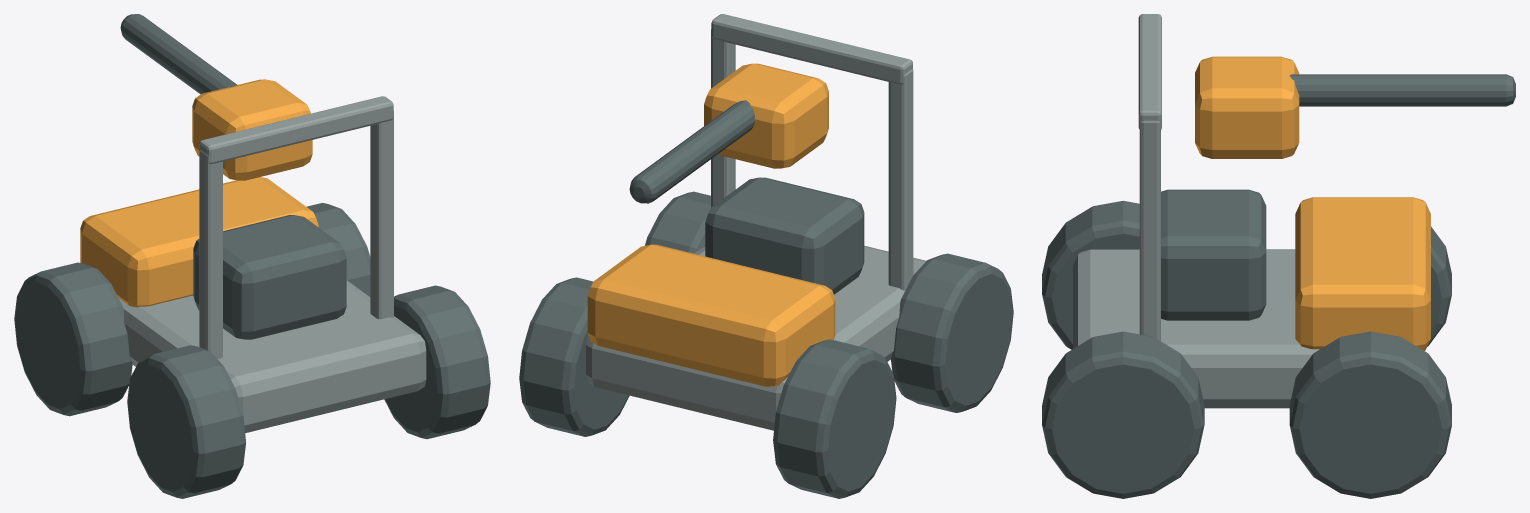
Rendered from buggy.glb.
3 renders of one model, left to right at view 1: azimuth 30°, elevation 25°; view 2: azimuth 150°, elevation 25°; view 3: azimuth 270°, elevation 25°, orthographic. The views are drawn at different scales.
Parts seen in each view (by area): view 1: Buggy chassis, Buggy tire, Buggy tire.001, Buggy hood, Seat, Buggy tire.002, Machine gun mount, Cage bar, Roll cage.001, Roll cage, Machine gun, Buggy tire.003; view 2: Buggy hood, Buggy tire.001, Buggy tire, Buggy chassis, Seat, Buggy tire.003, Machine gun mount, Cage bar, Roll cage, Machine gun, Buggy tire.002, Roll cage.001; view 3: Buggy tire.002, Buggy tire.003, Buggy hood, Buggy chassis, Seat, Machine gun mount, Machine gun, Buggy tire, Roll cage.001, Cage bar, Buggy tire.001.
Boxes of the visible parts, bbox=[...] form: Buggy chassis: bbox=[119, 280, 426, 432]; Buggy tire: bbox=[127, 345, 245, 498]; Buggy tire.001: bbox=[14, 262, 132, 416]; Buggy hood: bbox=[80, 177, 318, 307]; Seat: bbox=[193, 215, 346, 339]; Buggy tire.002: bbox=[384, 285, 490, 439]; Machine gun mount: bbox=[192, 79, 312, 180]; Cage bar: bbox=[199, 96, 393, 164]; Roll cage.001: bbox=[370, 110, 393, 319]; Roll cage: bbox=[199, 149, 222, 359]; Machine gun: bbox=[120, 14, 237, 94]; Buggy tire.003: bbox=[306, 203, 370, 296]; Buggy hood: bbox=[587, 244, 835, 386]; Buggy tire.001: bbox=[773, 339, 896, 498]; Buggy tire: bbox=[891, 253, 1013, 412]; Buggy chassis: bbox=[586, 245, 926, 430]; Seat: bbox=[705, 177, 864, 294]; Buggy tire.003: bbox=[519, 277, 629, 436]; Machine gun mount: bbox=[704, 63, 828, 168]; Cage bar: bbox=[711, 14, 912, 84]; Roll cage: bbox=[888, 68, 913, 290]; Machine gun: bbox=[629, 100, 754, 203]; Buggy tire.002: bbox=[645, 191, 710, 253]; Roll cage.001: bbox=[711, 29, 735, 207]; Buggy tire.002: bbox=[1042, 331, 1204, 498]; Buggy tire.003: bbox=[1289, 331, 1451, 498]; Buggy hood: bbox=[1295, 197, 1430, 350]; Buggy chassis: bbox=[1073, 249, 1319, 408]; Seat: bbox=[1161, 189, 1266, 320]; Machine gun mount: bbox=[1195, 56, 1299, 158]; Machine gun: bbox=[1289, 74, 1515, 106]; Buggy tire: bbox=[1042, 200, 1139, 349]; Roll cage.001: bbox=[1139, 120, 1160, 340]; Cage bar: bbox=[1138, 14, 1161, 130]; Buggy tire.001: bbox=[1427, 226, 1451, 346].
Bounding box in the file's own units: 0.97 × 1.03 × 1.22.
